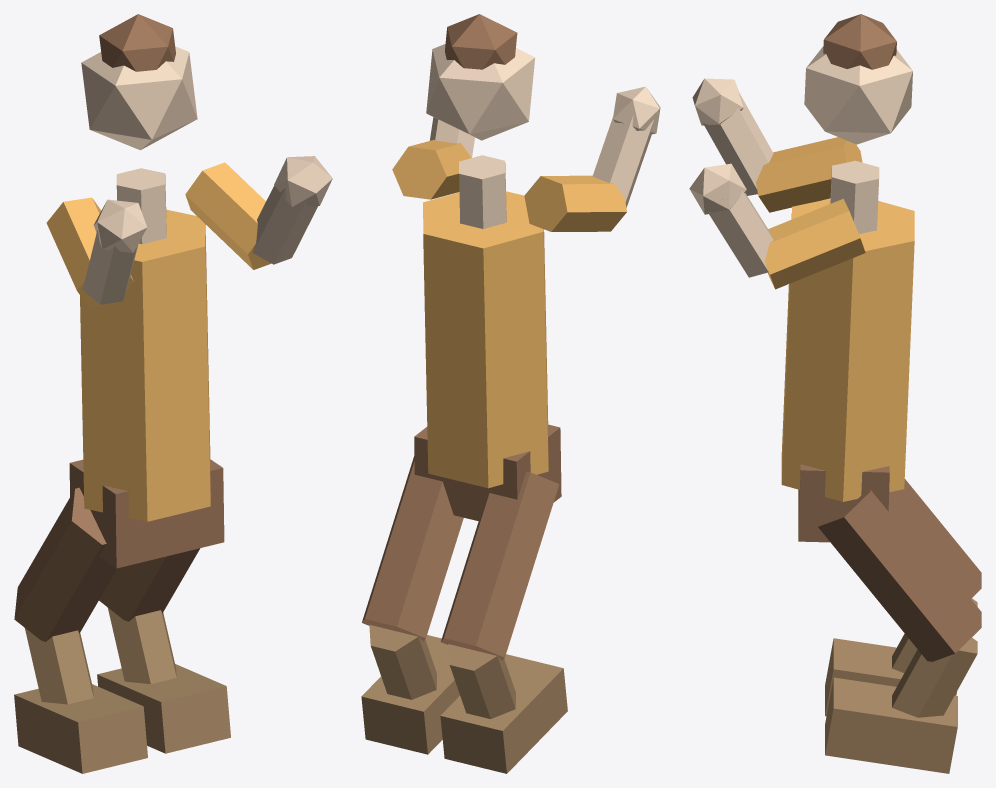
Rendered from pose_dodge_roll_07.glb.
3 renders of one model, left to right at view 1: azimuth 30°, elevation 25°; view 2: azimuth 150°, elevation 25°; view 3: azimuth 270°, elevation 25°, orthographic. The views are drawn at different scales.
Parts seen in each view (by area): view 1: pose; view 2: pose; view 3: pose.
Part boxes in pixels (x1,y1,x2,y2): pose: (14,14,332,773); pose: (361,14,660,773); pose: (689,14,981,773).
Bounding box in the file's own units: 0.4876 × 1.52 × 0.5571.
